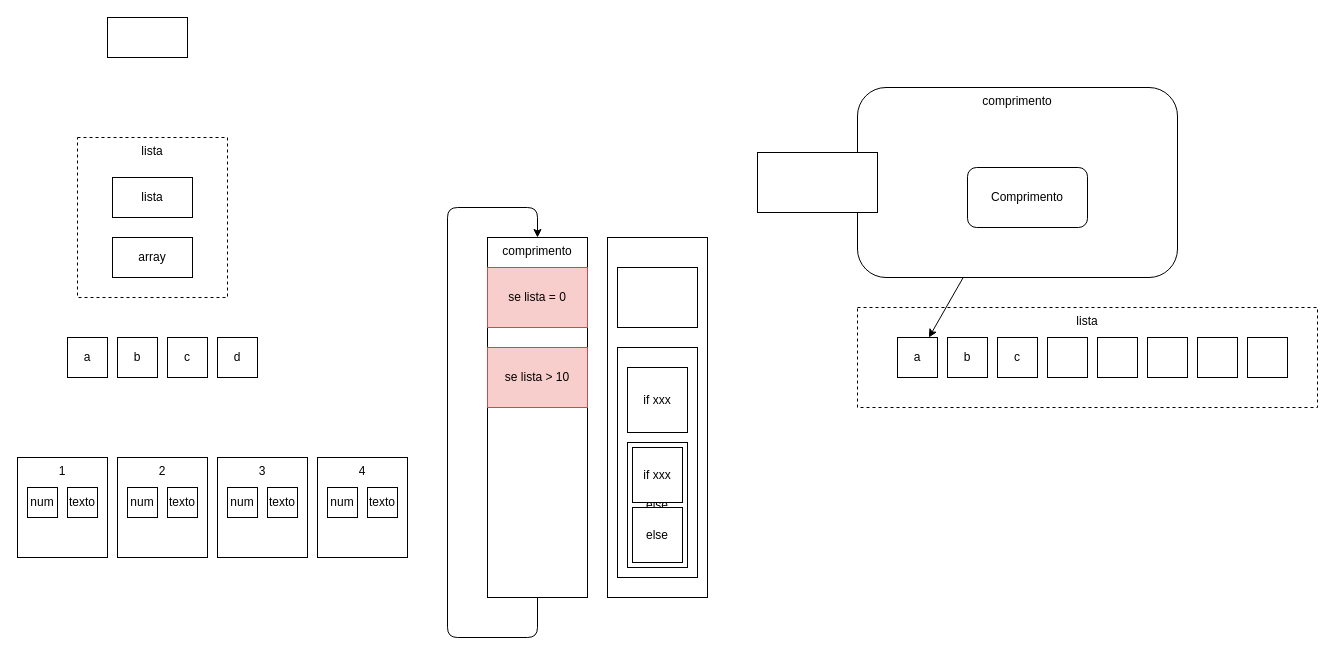
Image size: 1335x663. Some labels were removed from this diagram. Here are the shapes that lost their labels. From the top down, the centre of each, then its label:
the point at 147,37: vetor
the point at 817,182: int comp = 0
the point at 657,297: if xxxx
